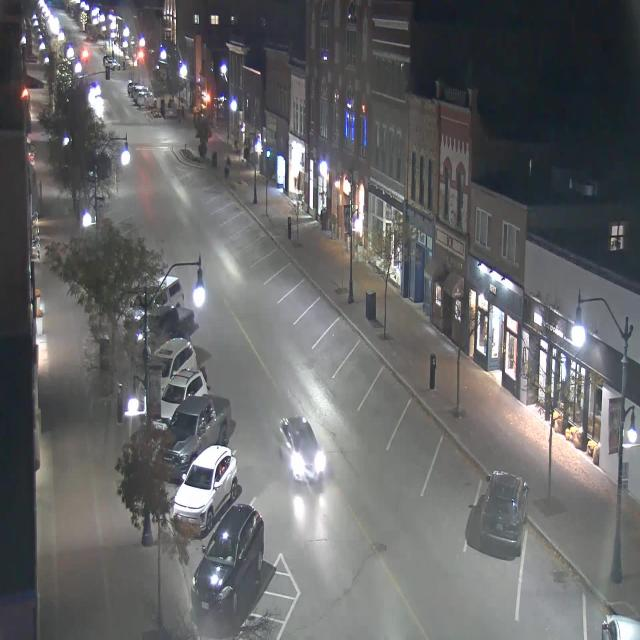available: (517, 508, 595, 630), (432, 422, 496, 511), (398, 384, 452, 464), (371, 360, 417, 425), (341, 332, 386, 389), (324, 305, 364, 363), (308, 284, 344, 338), (291, 266, 324, 310), (278, 253, 310, 293), (246, 213, 266, 244), (258, 226, 279, 255), (270, 241, 290, 270), (228, 190, 246, 217), (237, 203, 254, 230), (222, 183, 237, 207)
occupied: (190, 500, 264, 618), (172, 442, 238, 536), (164, 392, 235, 468), (479, 469, 529, 554), (158, 368, 209, 410), (592, 598, 640, 640), (153, 333, 199, 372), (143, 269, 190, 307), (148, 306, 200, 339)
